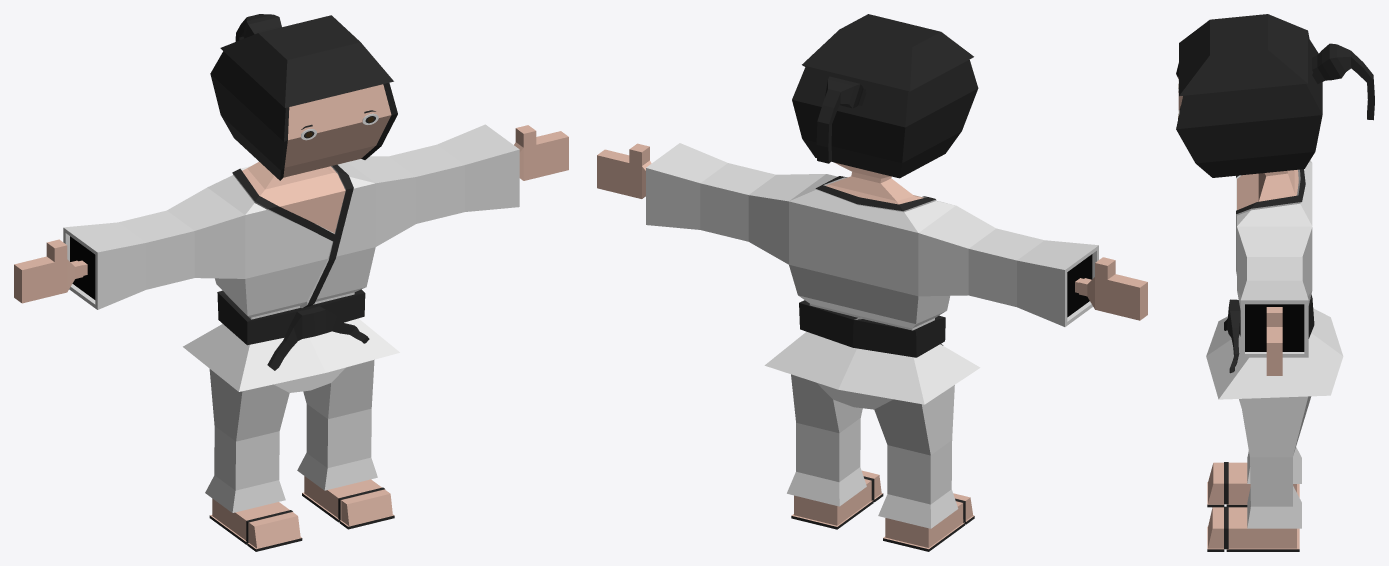
Rendered from man.fbx.
The picture shows the model from 3 angles, left to right: view 1: azimuth 30°, elevation 25°; view 2: azimuth 150°, elevation 25°; view 3: azimuth 270°, elevation 25°; orthographic projection.
Parts seen in each view (by area): view 1: Cube; view 2: Cube; view 3: Cube.
Boxes of the visible parts, x1,y1,x2,y2 form: Cube: [14, 14, 568, 551]; Cube: [597, 14, 1147, 551]; Cube: [1176, 14, 1374, 551].
Bounding box in the file's own units: 598 × 511 × 189.
